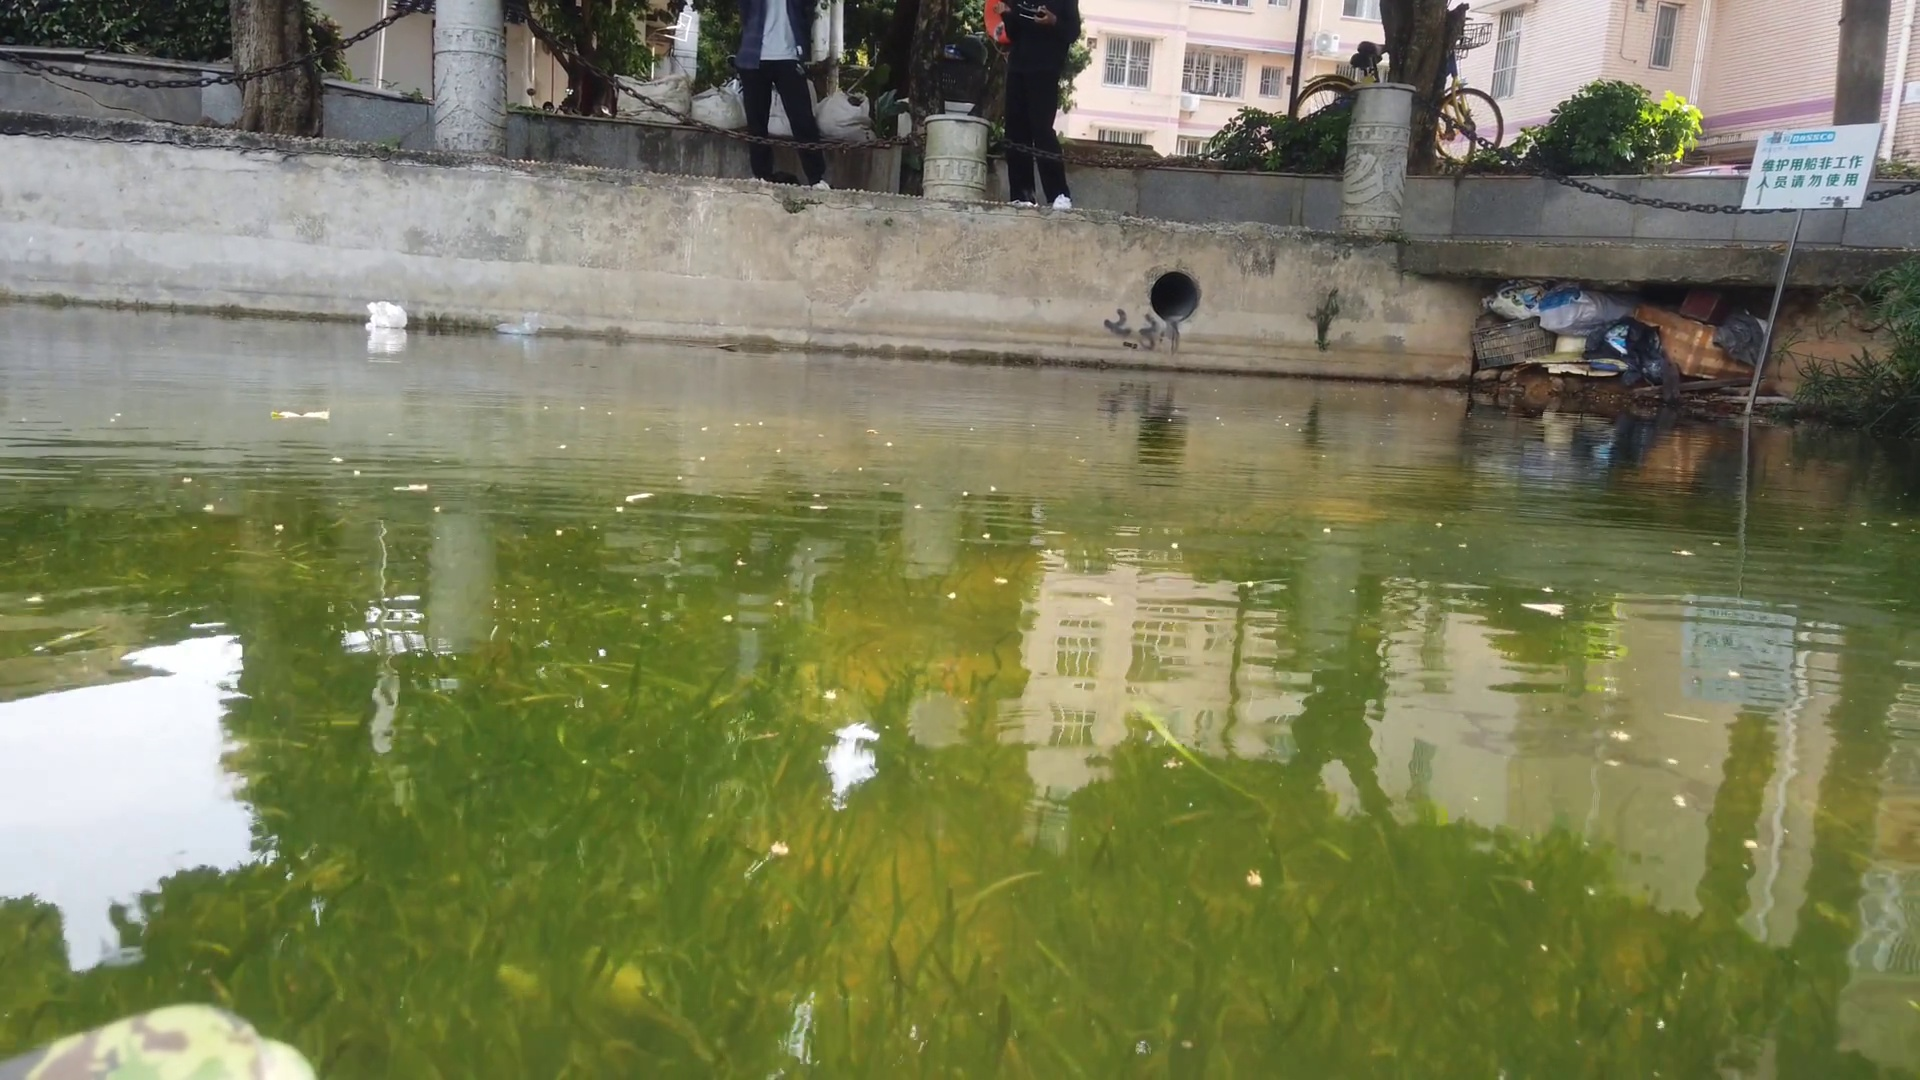paper: (692, 338, 741, 356)
plastic: (493, 310, 545, 334), (365, 301, 407, 327)
